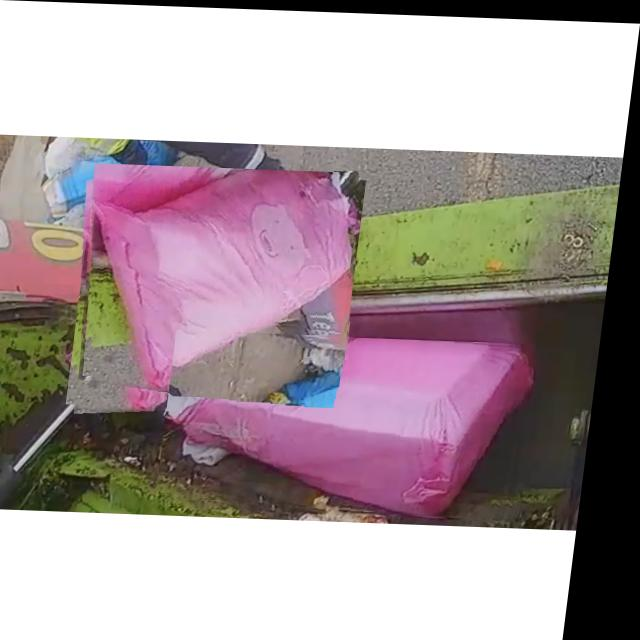other_trashbag: (178, 335, 541, 512), (94, 168, 362, 394)
